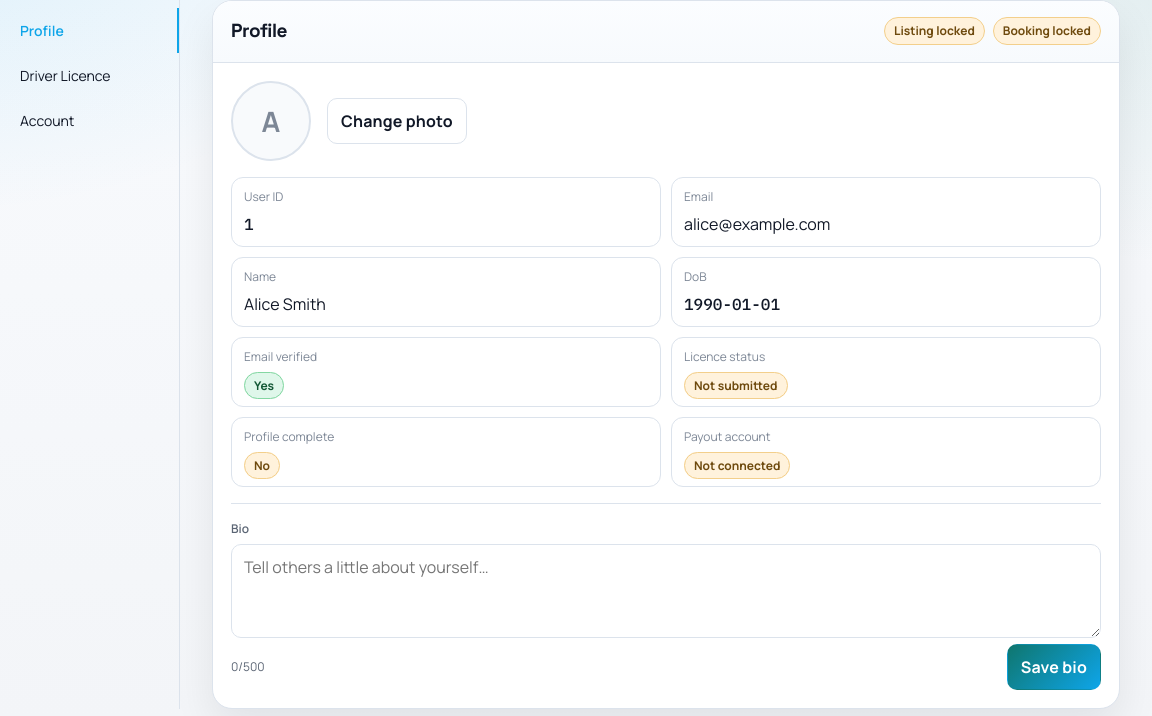
ProfilePage — change password form › renders the Change Password section
This screenshot has width=1152, height=716.
Click the button "Account": (90, 120) left=0, top=98, right=179, bottom=143
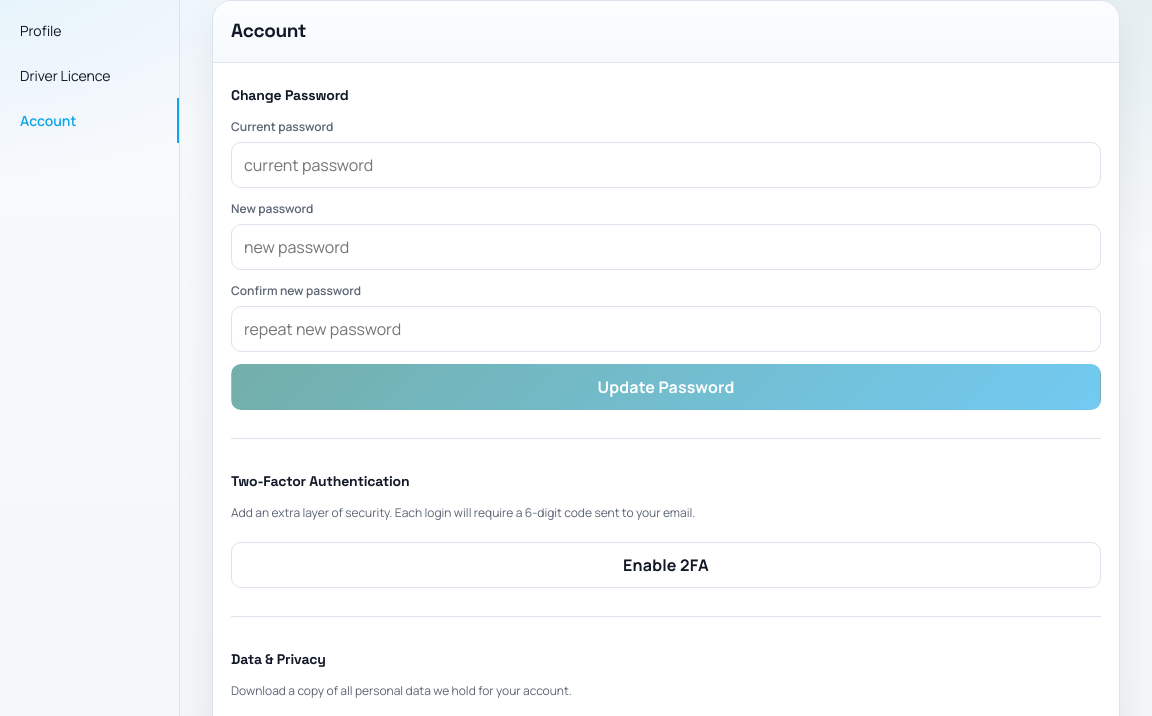
Result: the text "Change Password" is shown at left=231, top=86, right=349, bottom=104
Result: the password field labelled "Current password" is shown at left=231, top=142, right=1101, bottom=188
Result: the password field labelled "New password" is shown at left=231, top=224, right=1101, bottom=270
